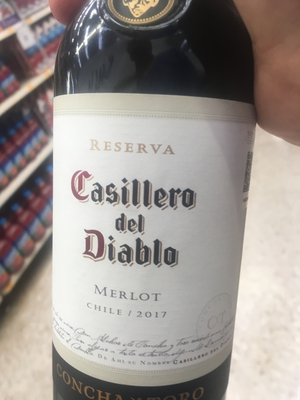casillero del diablo merlot: (50, 12, 263, 400)
